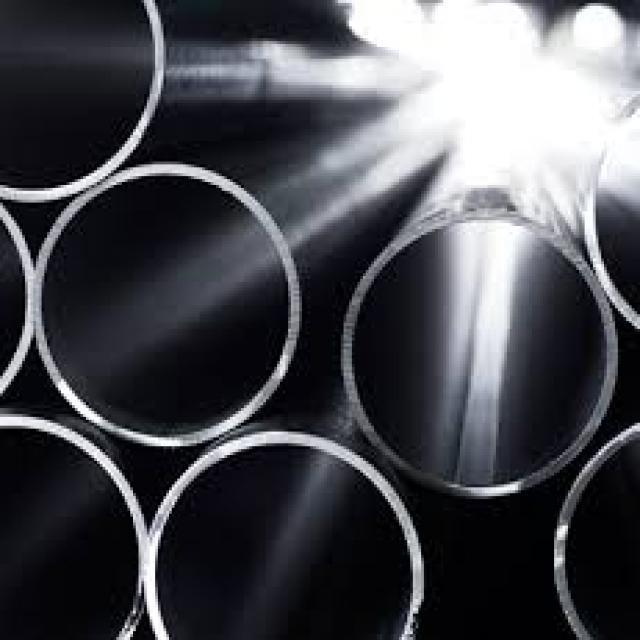pipe: (342, 220, 619, 498), (35, 164, 300, 448), (157, 449, 411, 640)
